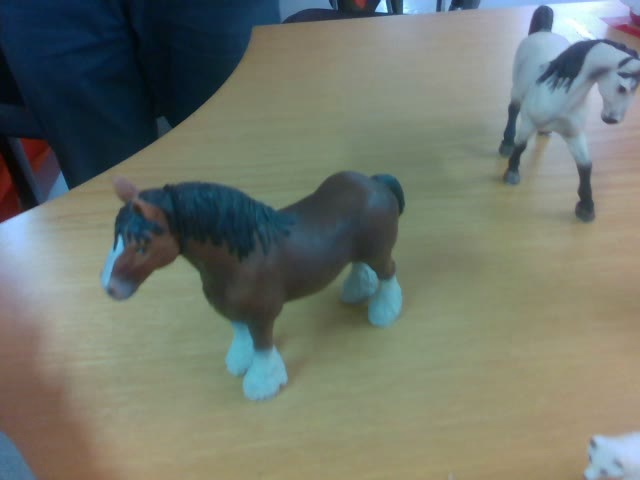toy: (102, 174, 407, 399)
